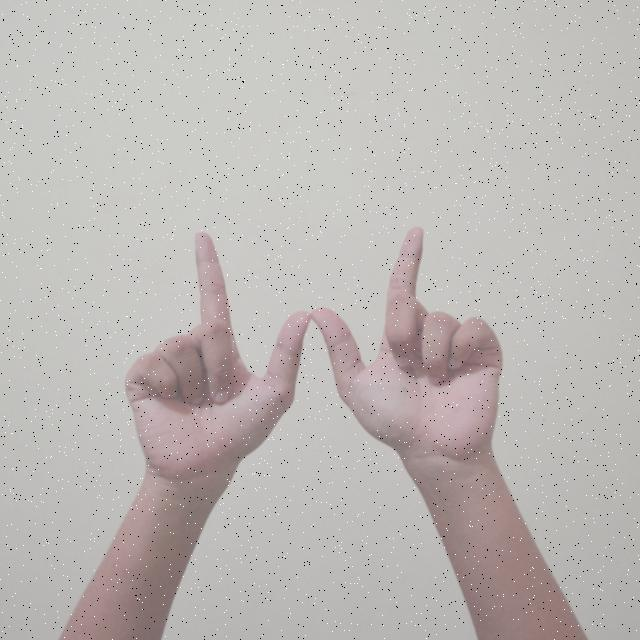W: (84, 199, 537, 493)
